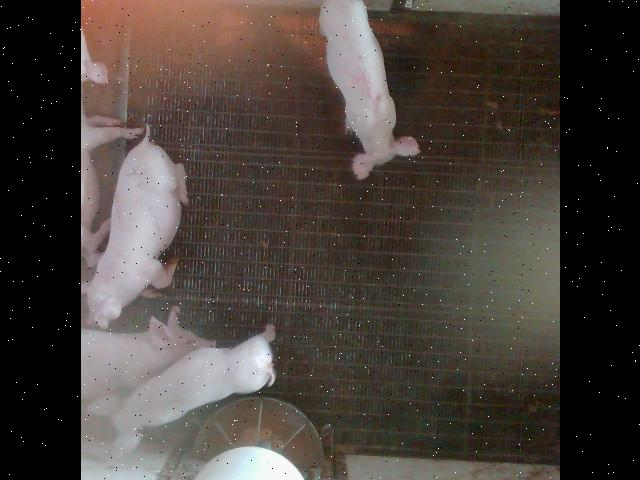pig-5: (319, 0, 419, 178)
